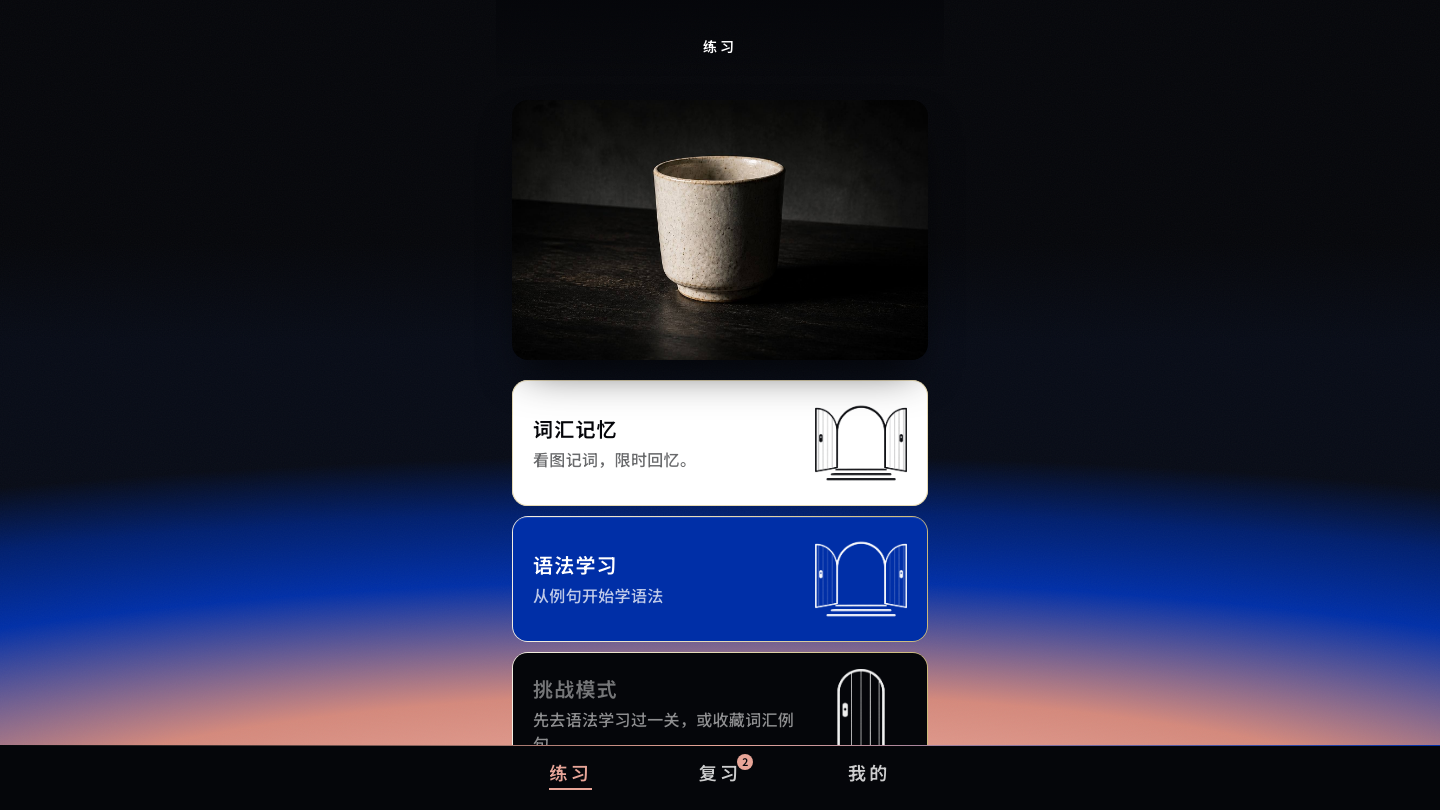
Test: app shell routes › shows a review unseen count and clears it after opening 复习
expect the text with test id "review-unseen" reads "2": met, box [742,754,748,769]
Click the link "复习 2" at coordinates (726, 770), box [699,754,753,785]
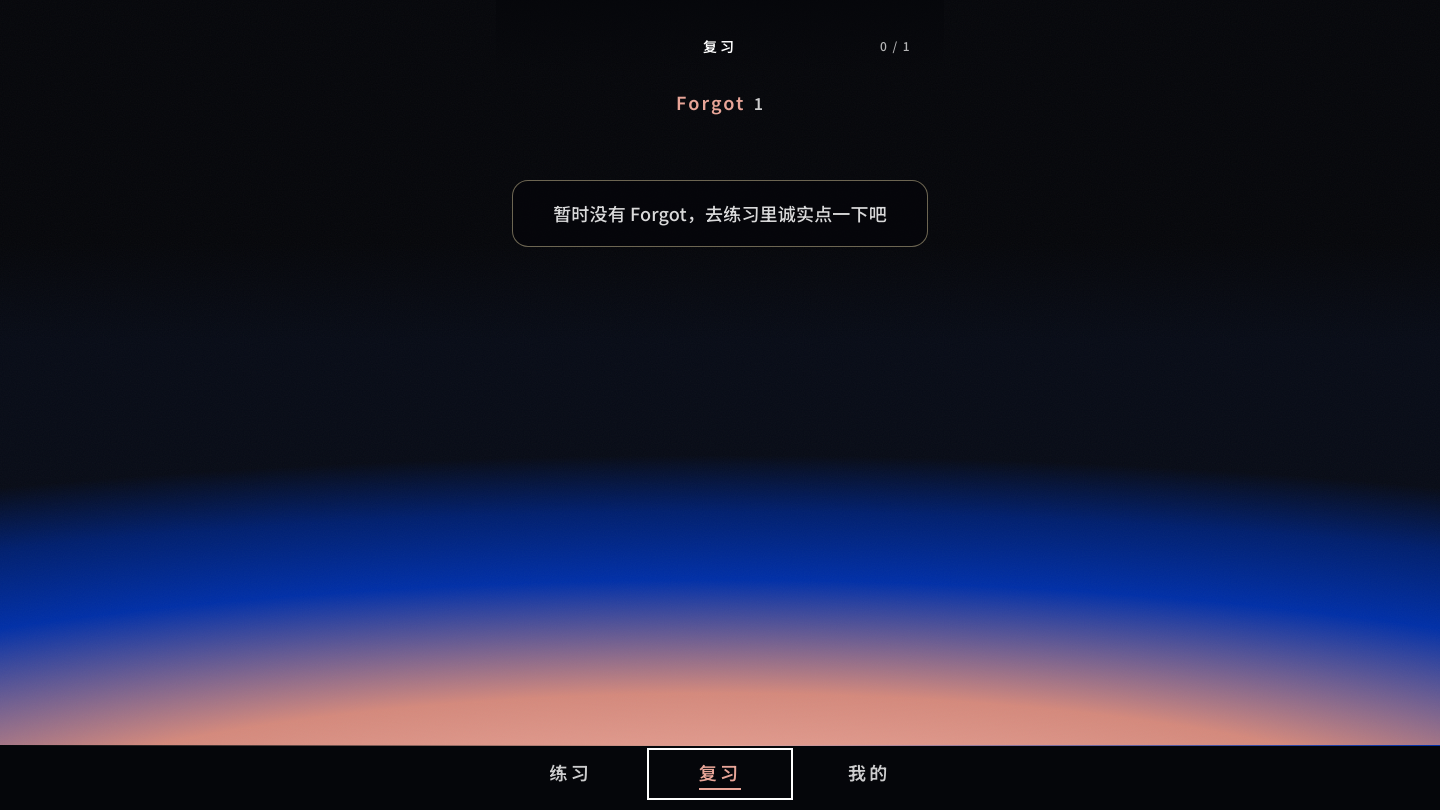
expect the text with test id "review-unseen" is gone: met
